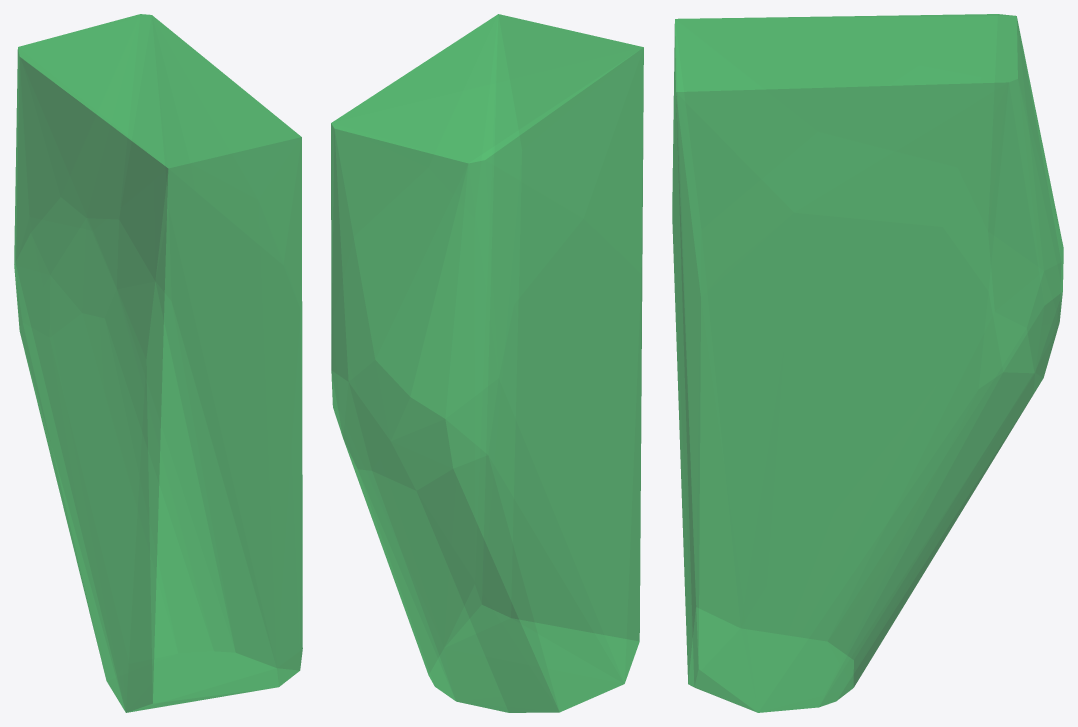
3 renders of one model, left to right at view 1: azimuth 30°, elevation 25°; view 2: azimuth 150°, elevation 25°; view 3: azimuth 270°, elevation 25°, orthographic. The views are drawn at different scales.
Visible parts, largest first — view 1: Shape_IndexedFaceSet.001_Shape_IndexedFaceSet.17979; view 2: Shape_IndexedFaceSet.001_Shape_IndexedFaceSet.17979; view 3: Shape_IndexedFaceSet.001_Shape_IndexedFaceSet.17979.
Boxes of the visible parts, x1,y1,x2,y2 form: Shape_IndexedFaceSet.001_Shape_IndexedFaceSet.17979: (14,14,302,712); Shape_IndexedFaceSet.001_Shape_IndexedFaceSet.17979: (331,14,643,712); Shape_IndexedFaceSet.001_Shape_IndexedFaceSet.17979: (672,14,1063,712).
Bounding box in the file's own units: 0.1821 × 0.6302 × 0.3554.
